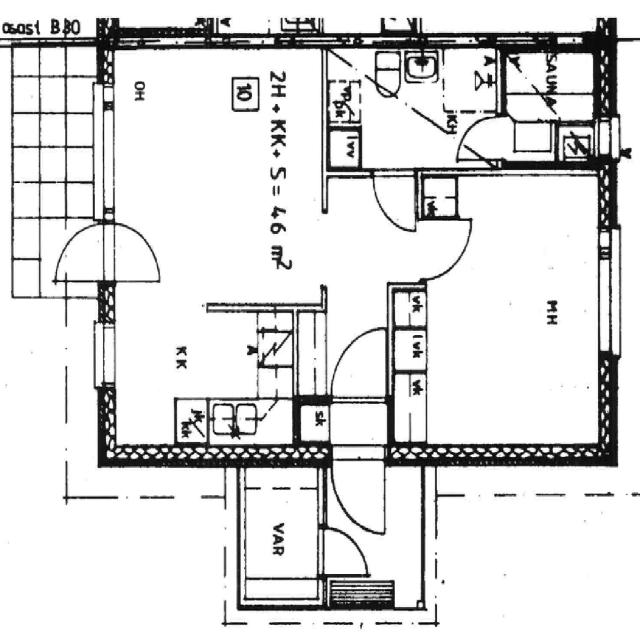door: (333, 323, 388, 397), (112, 220, 163, 288), (60, 223, 106, 284), (373, 169, 417, 231), (322, 524, 369, 575), (456, 115, 494, 163)
window: (92, 316, 120, 392)
zone: (395, 172, 607, 458), (5, 38, 104, 320), (333, 457, 424, 609), (241, 475, 323, 602), (502, 44, 602, 138), (439, 46, 500, 112), (419, 172, 459, 218), (174, 398, 208, 443), (328, 126, 361, 170)
